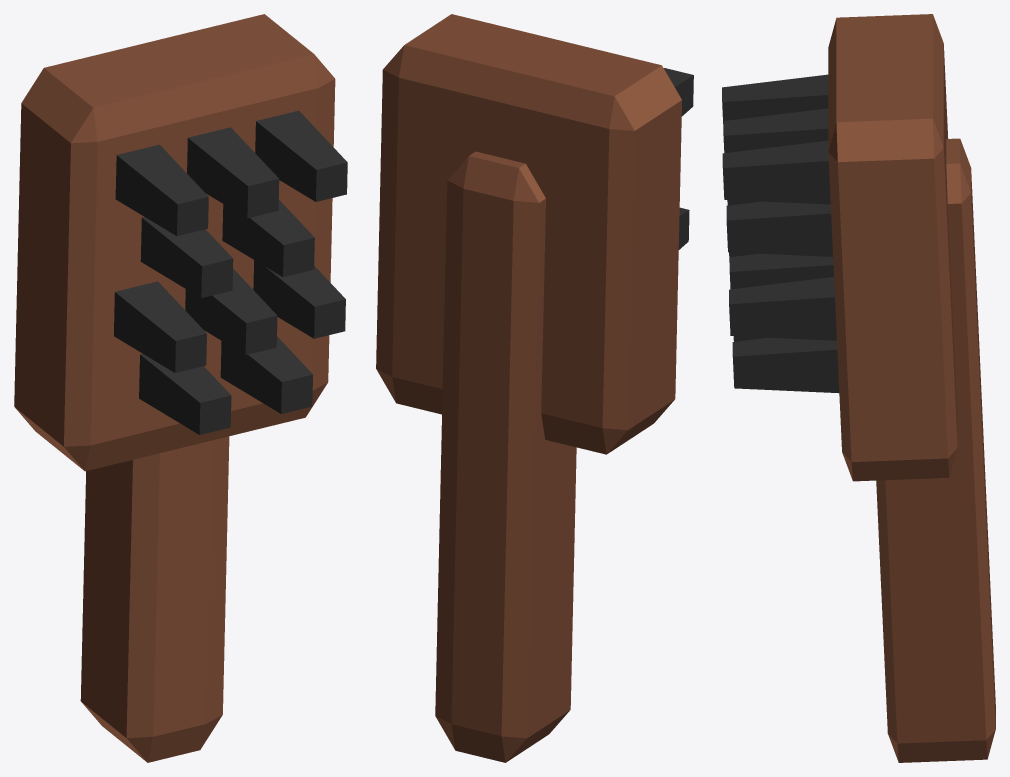
The model's file is comb_for_hackle.fbx.
The picture shows the model from 3 angles, left to right: view 1: azimuth 30°, elevation 25°; view 2: azimuth 150°, elevation 25°; view 3: azimuth 270°, elevation 25°; orthographic projection. The views are drawn at different scales.
Parts seen in each view (by area): view 1: comb; view 2: comb; view 3: comb.
Part boxes in pixels (x1,y1,x2,y2): comb: (14, 14, 347, 762); comb: (376, 14, 693, 762); comb: (722, 14, 995, 762).
Size of the model in its own units: 12.23 by 31.08 by 11.28.
